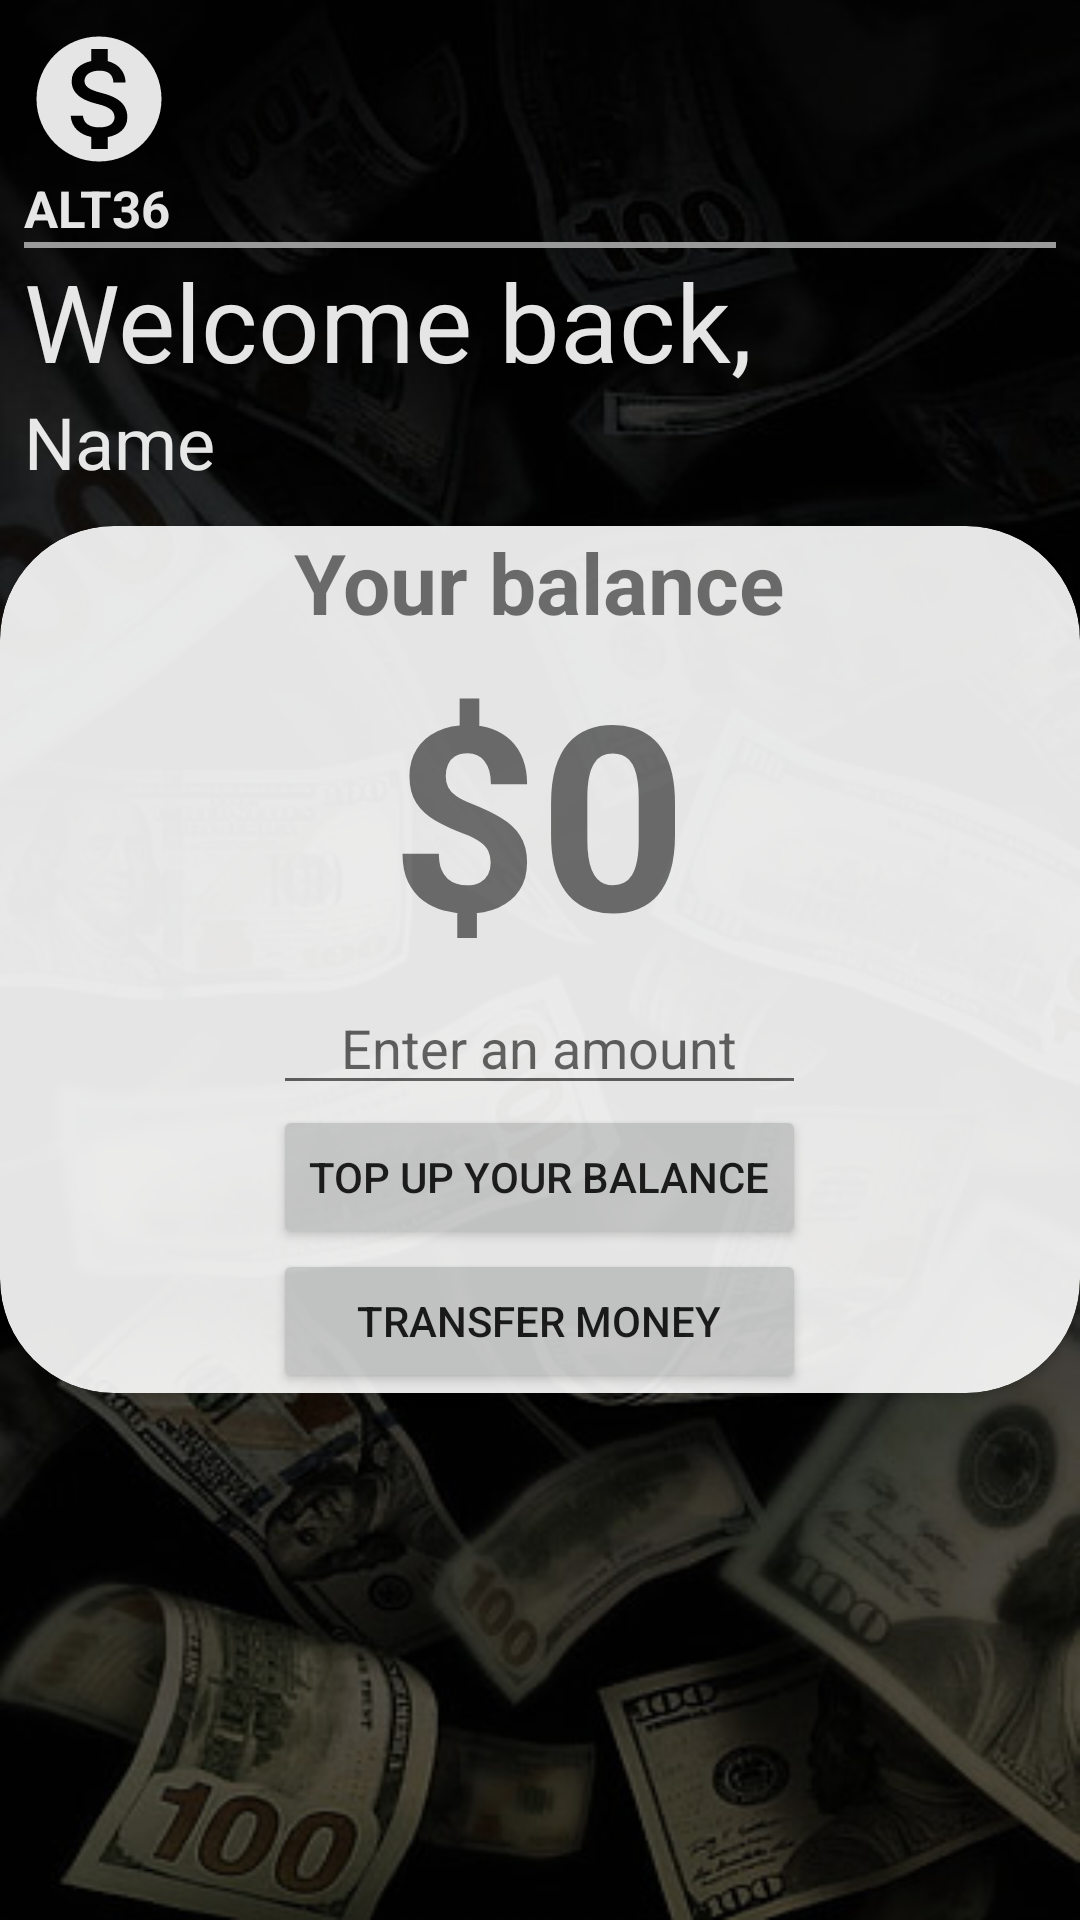

Named icons in this screenshot (1080 x 1920) and their bounding boxes, [x1=x1, y1=y1, x2=x2, y2=y2]:
monetization on: [x1=36, y1=36, x2=162, y2=162]
